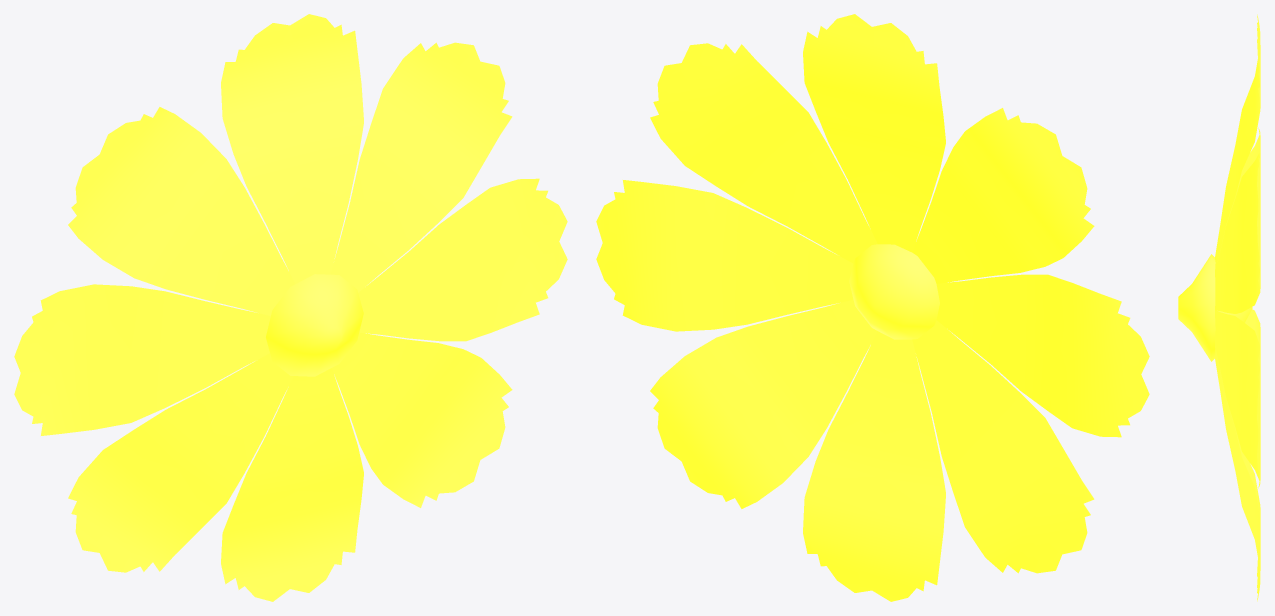
File: FLO001a_Yellow_OnlyHead.fbx
The picture shows the model from 3 angles, left to right: view 1: azimuth 30°, elevation 25°; view 2: azimuth 150°, elevation 25°; view 3: azimuth 270°, elevation 25°; orthographic projection. The views are drawn at different scales.
Visible parts, largest first — view 1: obj_FLO001_Yellow; view 2: obj_FLO001_Yellow; view 3: obj_FLO001_Yellow.
Boxes of the visible parts, x1,y1,x2,y2 form: obj_FLO001_Yellow: (14, 14, 567, 601); obj_FLO001_Yellow: (596, 14, 1149, 601); obj_FLO001_Yellow: (1178, 14, 1260, 601).
Bounding box in the file's own units: 0.687 × 0.0929 × 0.687.
